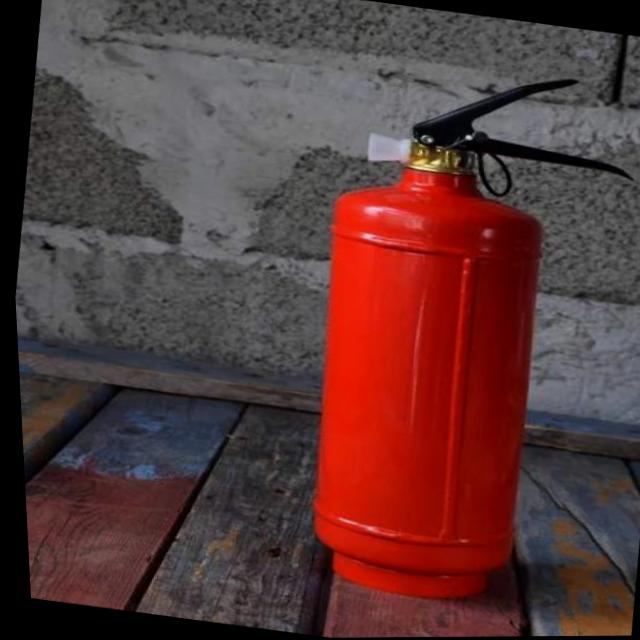FireExtinguisher: (264, 44, 640, 626)
